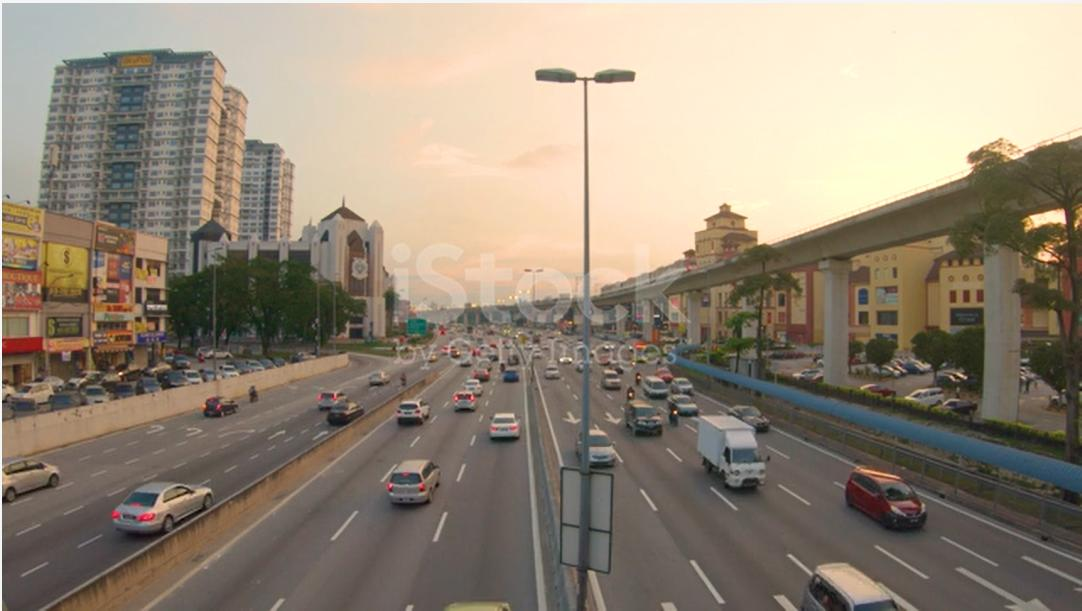car: (102, 475, 226, 532), (840, 455, 929, 534), (794, 539, 890, 611), (0, 438, 68, 507), (372, 457, 448, 513), (622, 389, 666, 444), (582, 418, 619, 478), (480, 400, 521, 453), (727, 394, 771, 436), (322, 394, 367, 434), (389, 392, 432, 430), (199, 387, 243, 419), (665, 387, 704, 423), (448, 388, 482, 419), (313, 386, 348, 411), (644, 372, 665, 403), (540, 362, 565, 388), (368, 369, 398, 390), (599, 367, 622, 393), (668, 376, 696, 396), (502, 362, 523, 384), (462, 374, 483, 394)
motorcycle: (665, 403, 686, 427), (626, 386, 636, 403)
truck: (694, 404, 771, 509)
